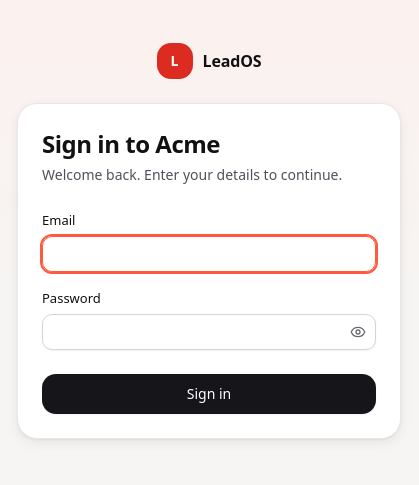
LoginPage › shows the API error message in an alert on 401
Type "asha@example.com" into the field labelled "Email".
click(209, 254); type("asha@example.com")  # box [42,236,376,272]
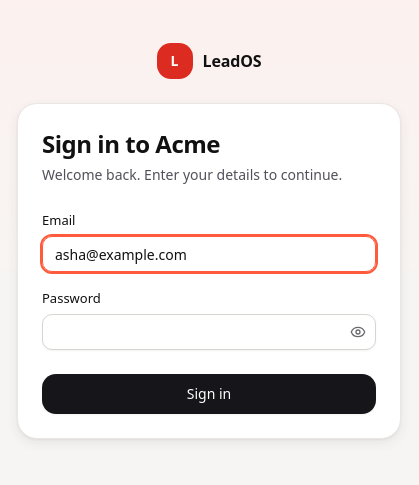
Type "wrong-password" into the password field labelled "Password".
click(209, 332); type("wrong-password")  # box [42,314,376,350]
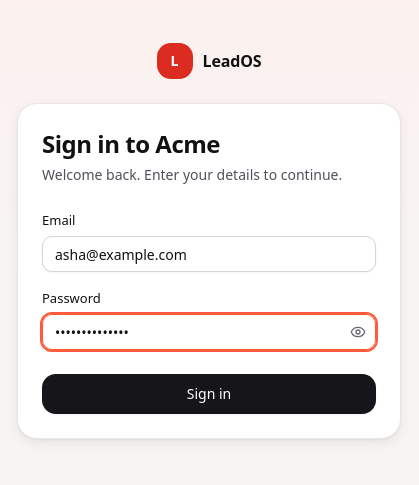
Click the button "Sign in".
click(209, 394)  # box [42,374,376,414]
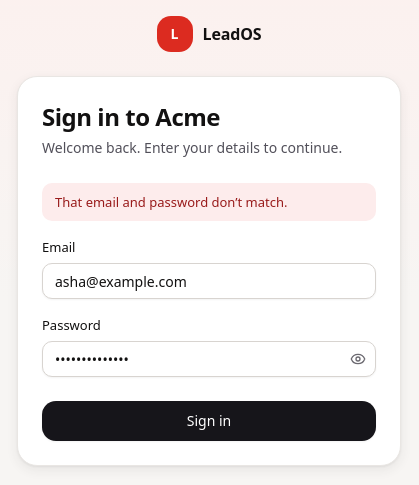
Now the message reads "That email and password don’t match.", box [55,193,288,211]
